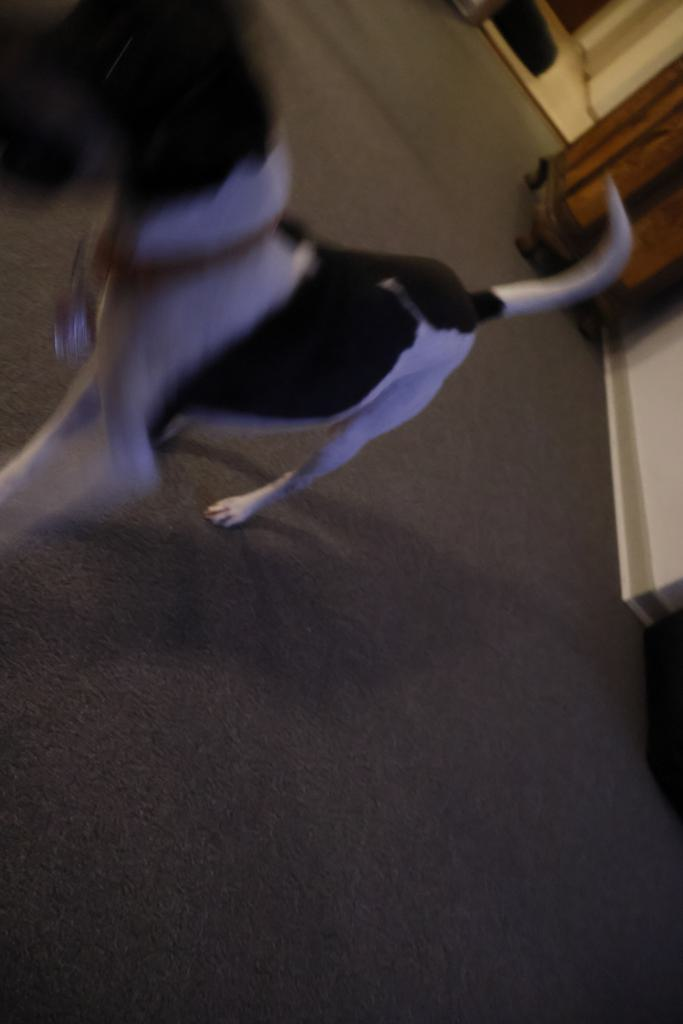Dog: (0, 0, 648, 578)
